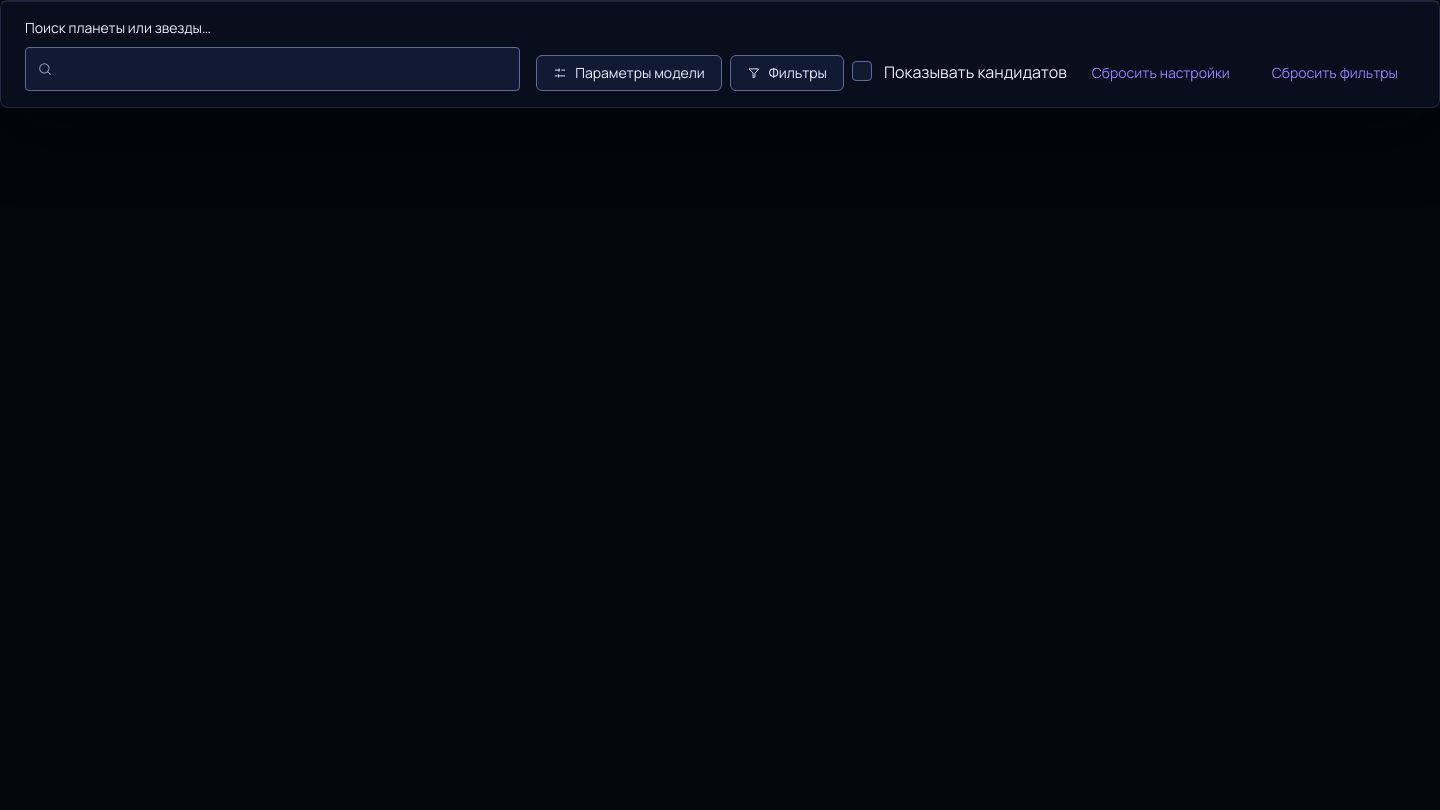
Scenario: панель «Параметры модели» › «Применить» недоступна без изменений и вызывает один пересчёт при трёх правках
Later steps or results of the test are not shown.
Click the button "Параметры модели": (629, 73) 536,55 -> 722,91
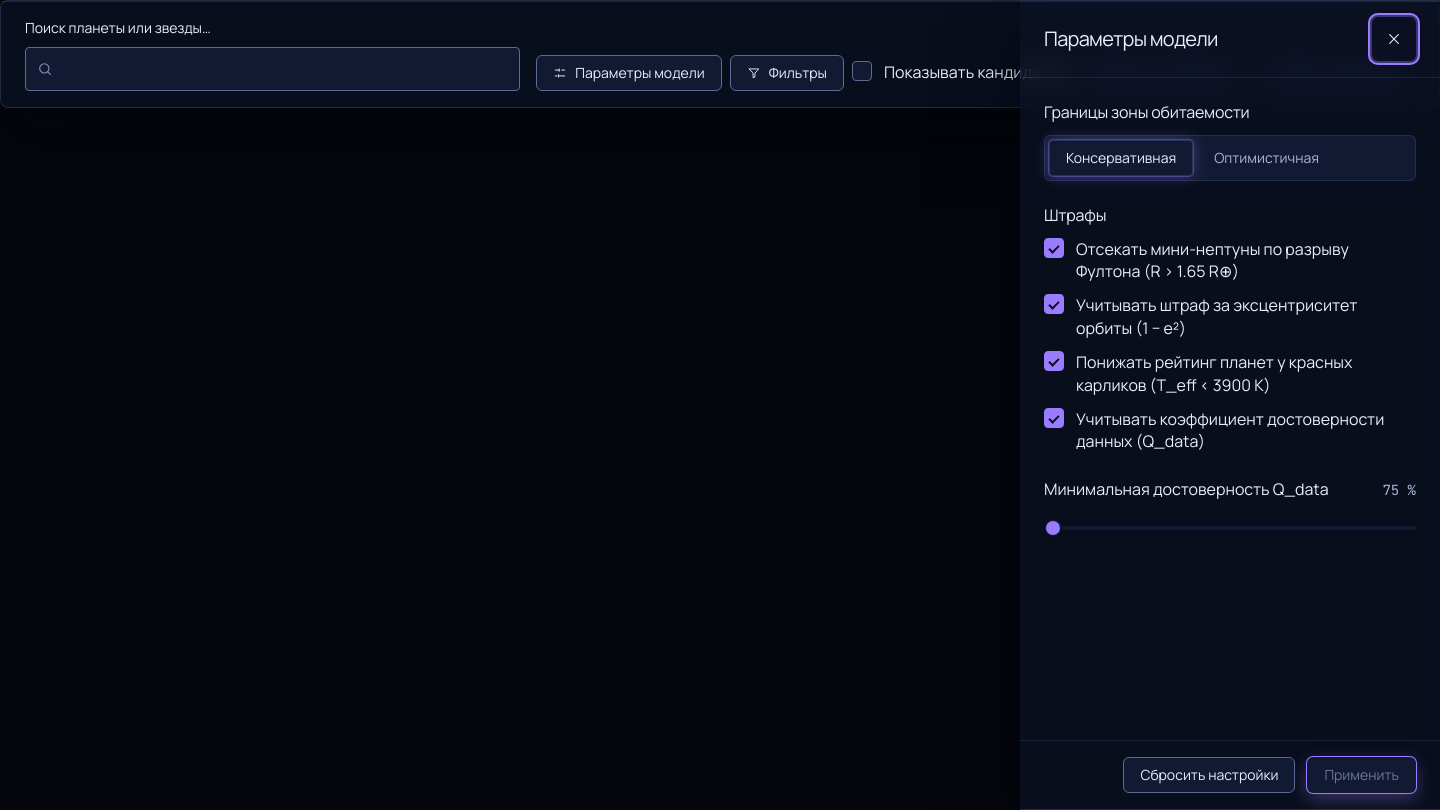
Expected: the button "Применить" is disabled, 1307,757 -> 1416,793
Click the radio button labelled "Оптимистичная": (1266, 158) 1197,140 -> 1336,176
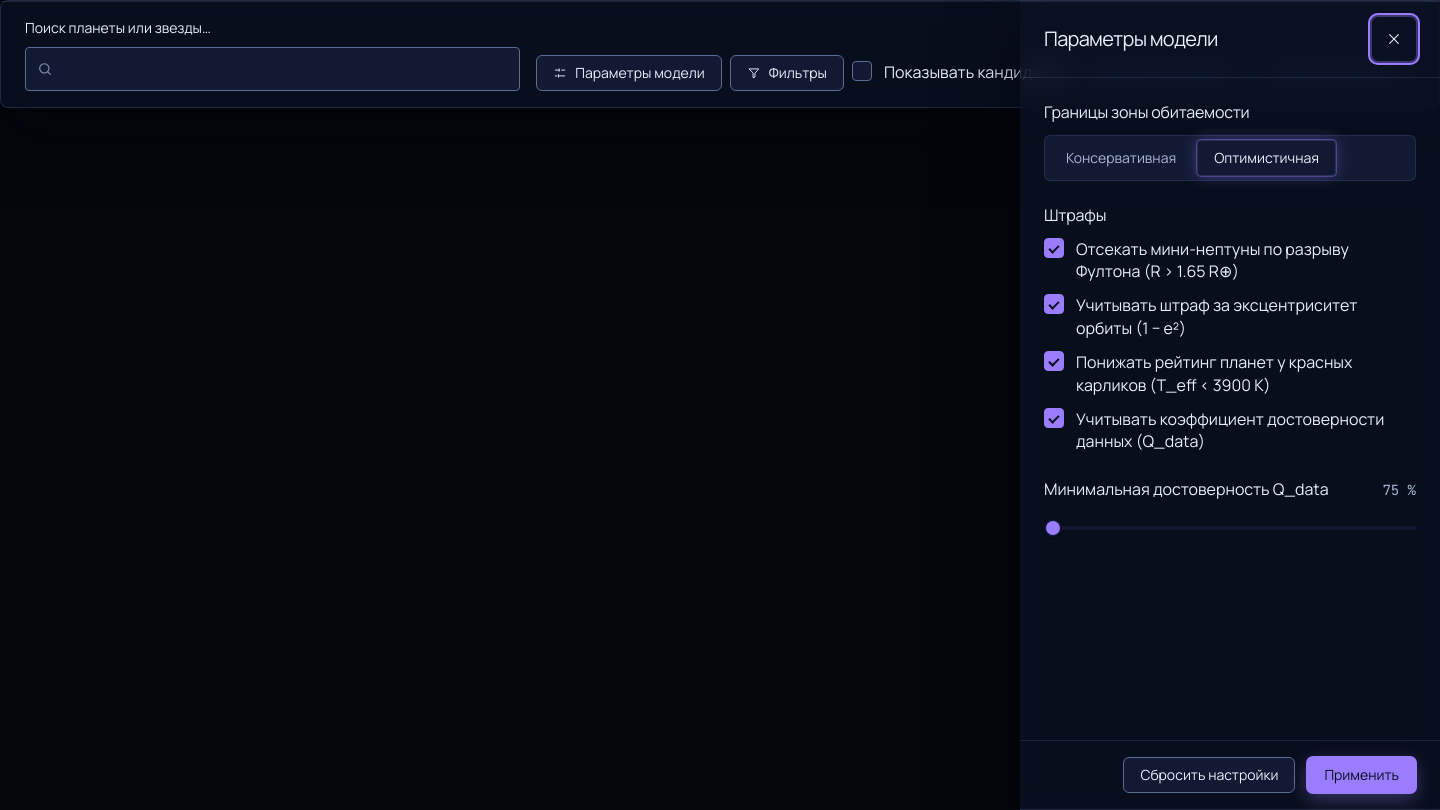
Click the checkbox labelled "Учитывать штраф за эксцентриситет орбиты (1 − e²)": (1054, 304) 1044,294 -> 1064,314
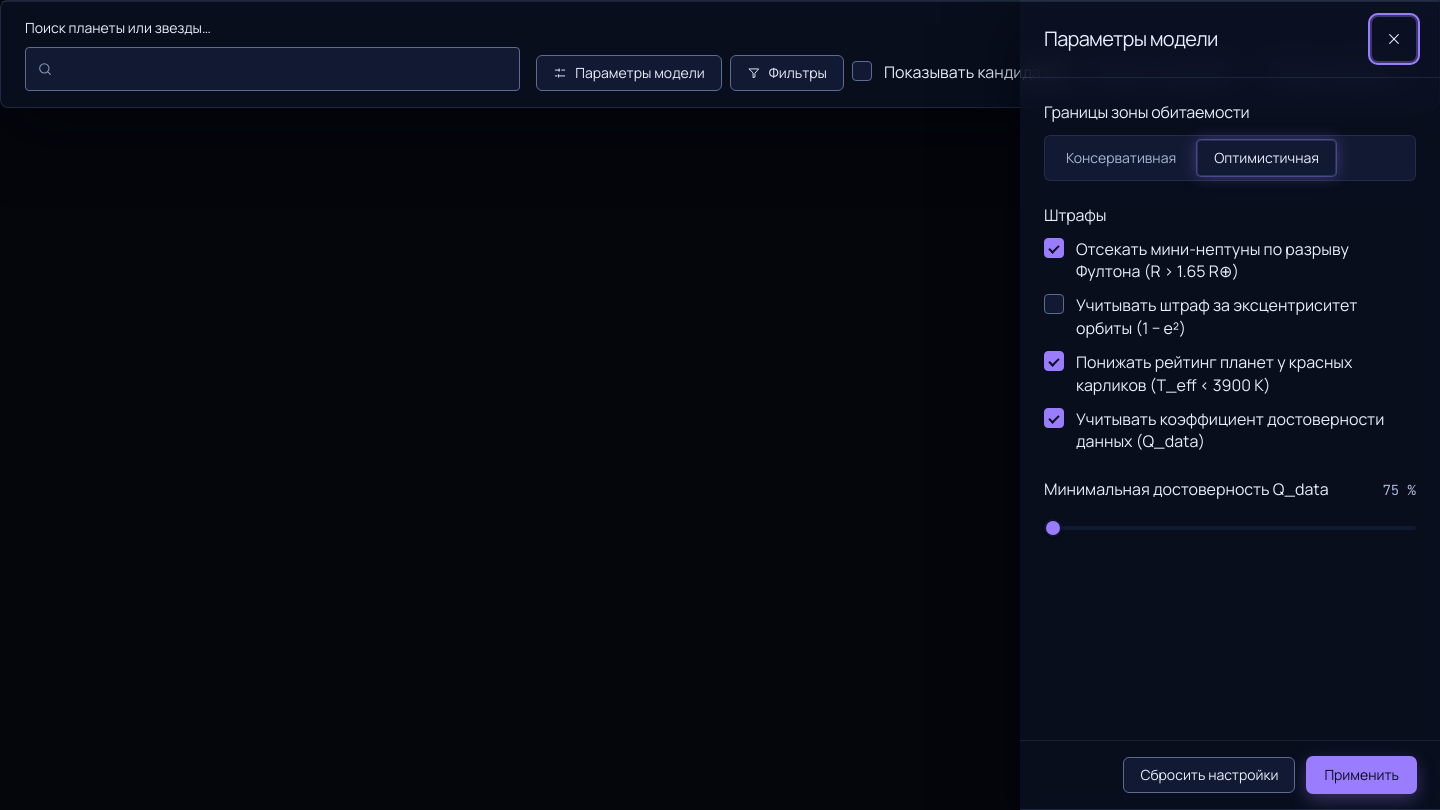
Click the checkbox labelled "Учитывать коэффициент достоверности данных (Q_data)": (1054, 418) 1044,408 -> 1064,428
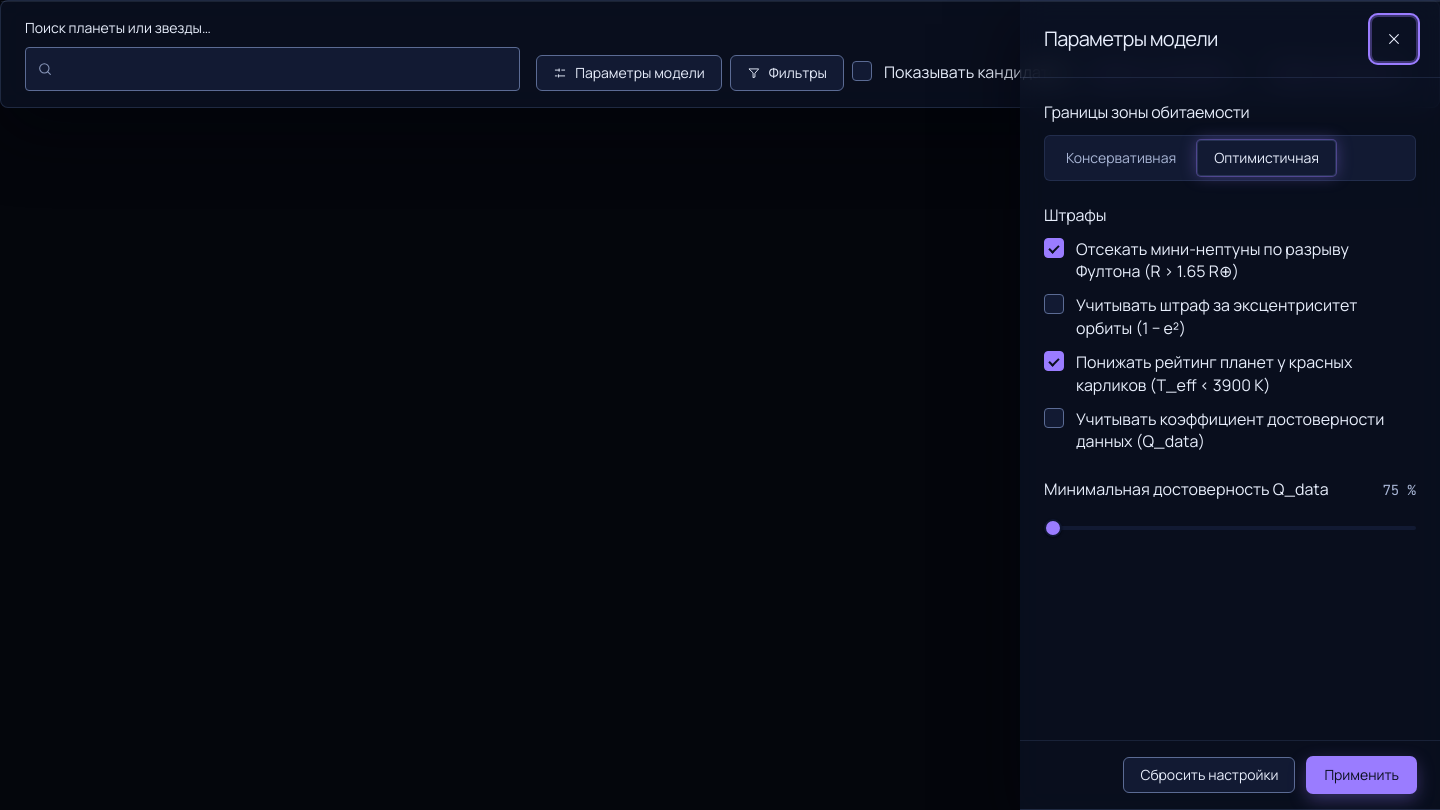
Set the slider labelled "Минимальная достоверность Q_data" to "90": (1266, 528) 1044,510 -> 1416,546
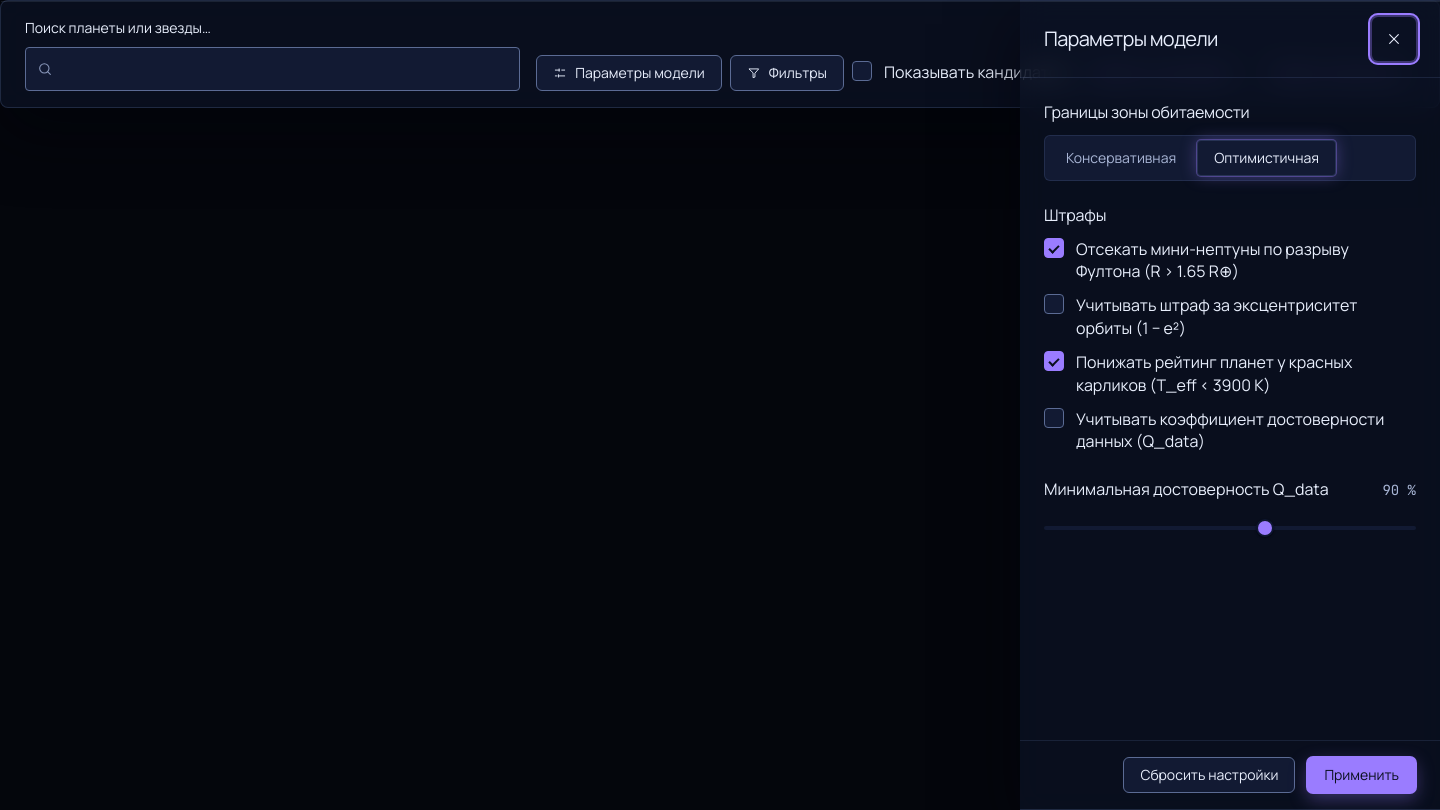
Expected: the button "Применить" is enabled, 1307,757 -> 1416,793
